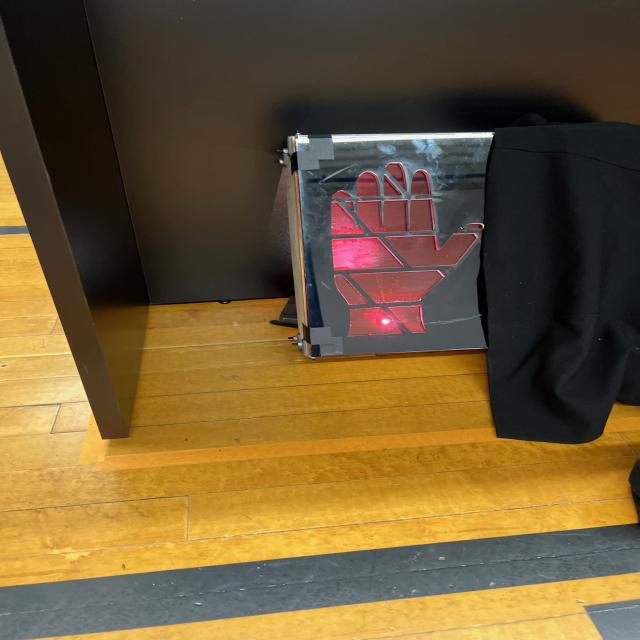stop: (288, 134, 493, 358)
